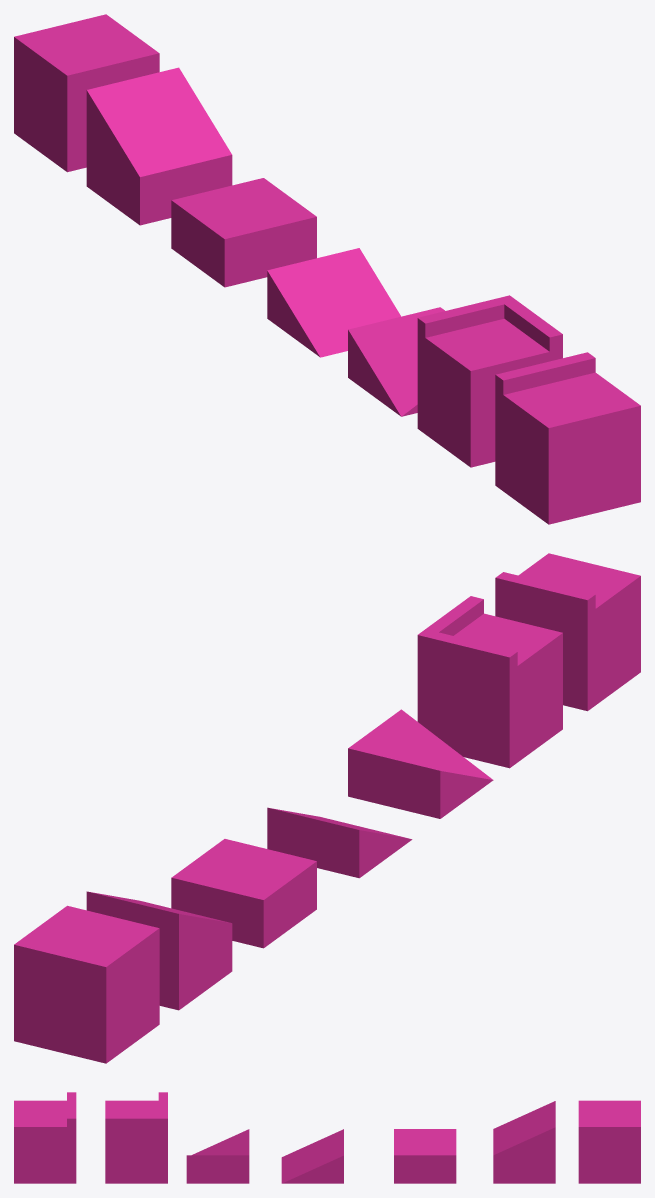
Rendered from blocks_platform_pirple.glb.
3 renders of one model, top to bottom at view 1: azimuth 30°, elevation 25°; view 2: azimuth 150°, elevation 25°; view 3: azimuth 270°, elevation 25°, orthographic. The views are drawn at different scales.
Visible parts, largest first — view 1: block_wall, ramp_top, block_wall_corner, block, miniblock, ramp_mini, ramp_lower_corner; view 2: block_wall_corner, block, block_wall, miniblock, ramp_lower_corner, ramp_top, ramp_mini; view 3: block_wall_corner, block_wall, block, ramp_top, miniblock, ramp_lower_corner, ramp_mini.
Boxes of the visible parts, left/top/right/bottom form: block_wall: left=495, top=352, right=640, bottom=524; ramp_top: left=86, top=67, right=232, bottom=225; block_wall_corner: left=417, top=295, right=562, bottom=467; block: left=14, top=14, right=159, bottom=172; miniblock: left=171, top=178, right=316, bottom=287; ramp_mini: left=267, top=248, right=400, bottom=357; ramp_lower_corner: left=348, top=307, right=444, bottom=416; block_wall_corner: left=417, top=596, right=562, bottom=768; block: left=14, top=905, right=159, bottom=1063; block_wall: left=495, top=553, right=640, bottom=711; miniblock: left=171, top=839, right=316, bottom=948; ramp_lower_corner: left=348, top=709, right=493, bottom=818; ramp_top: left=86, top=891, right=232, bottom=1010; ramp_mini: left=267, top=807, right=412, bottom=878; block_wall_corner: left=105, top=1092, right=167, bottom=1183; block_wall: left=14, top=1092, right=76, bottom=1183; block: left=578, top=1100, right=640, bottom=1183; ramp_top: left=493, top=1101, right=555, bottom=1183; miniblock: left=394, top=1129, right=456, bottom=1183; ramp_lower_corner: left=186, top=1129, right=249, bottom=1183; ramp_mini: left=281, top=1129, right=343, bottom=1183.
Size of what is drawn, in the model's own units: 2 by 2.3 by 20.08.
